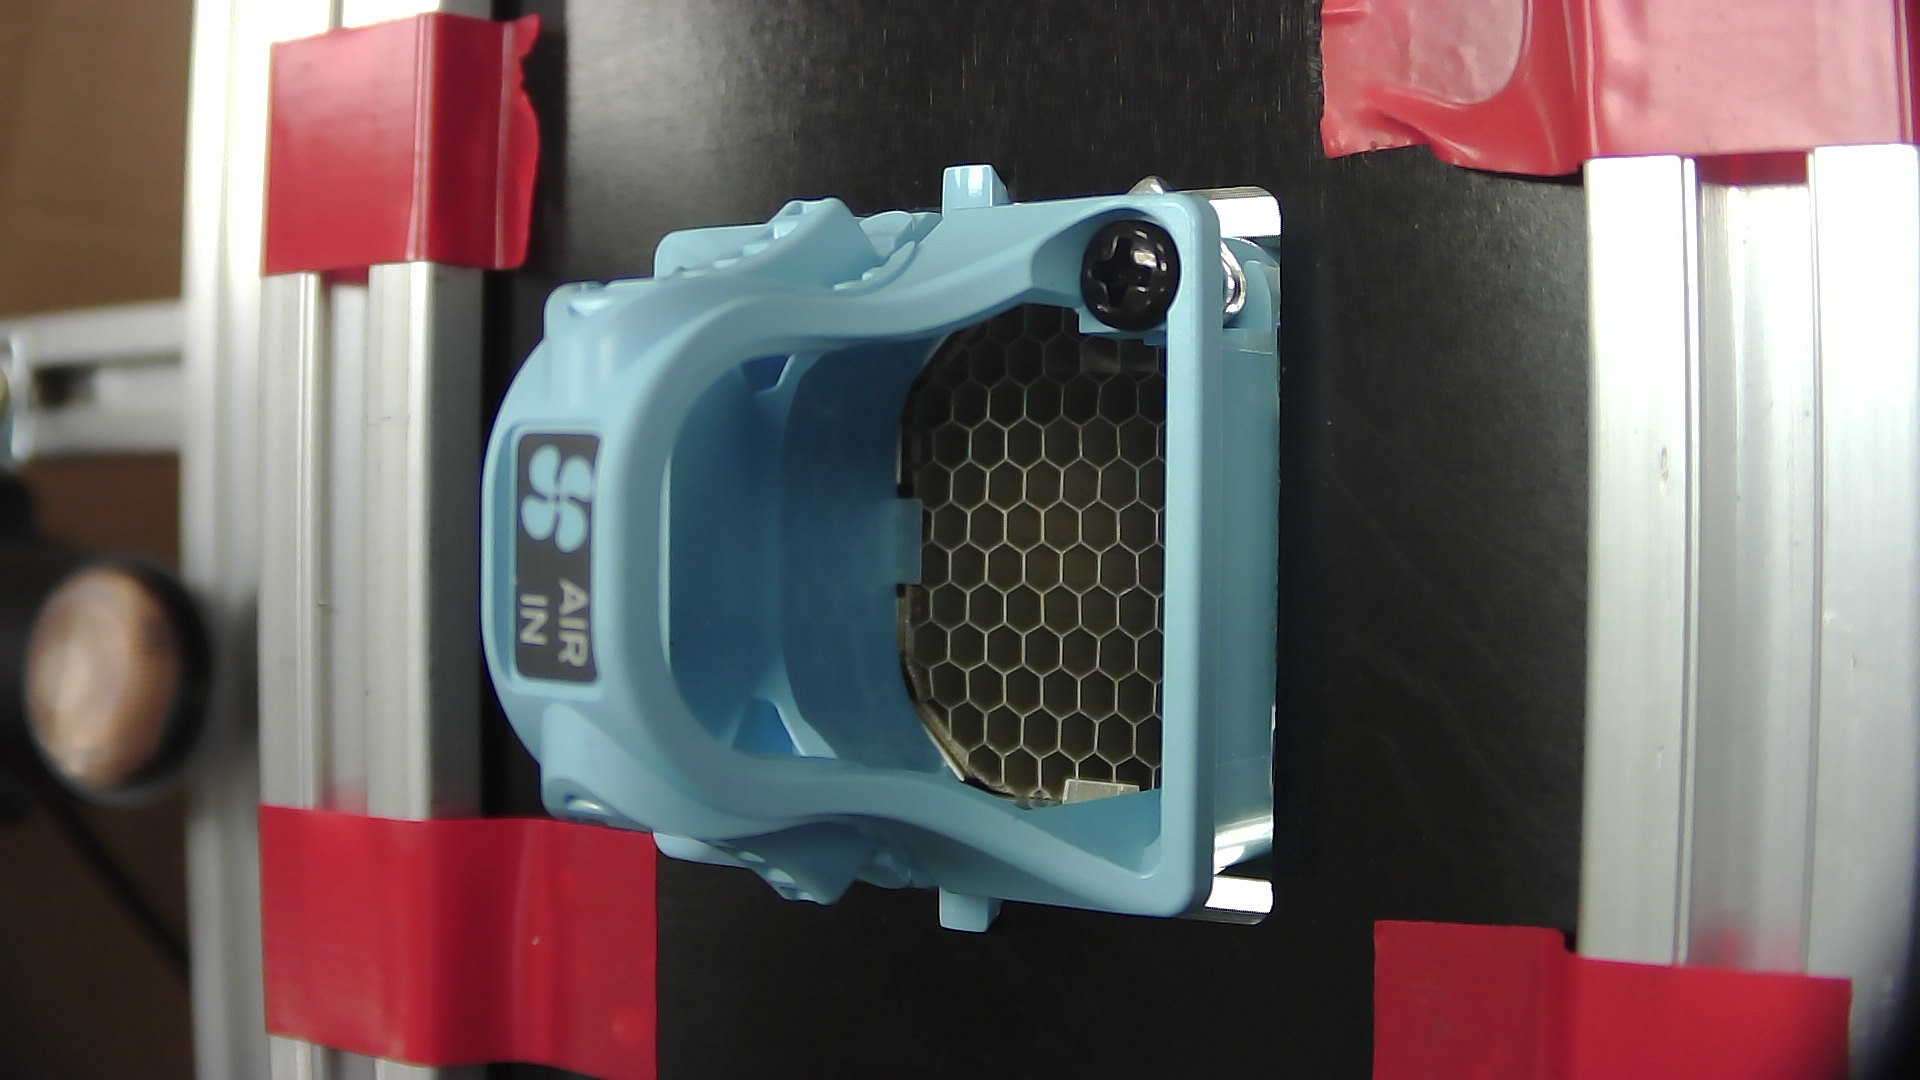7_0: (409, 116, 1342, 957)
